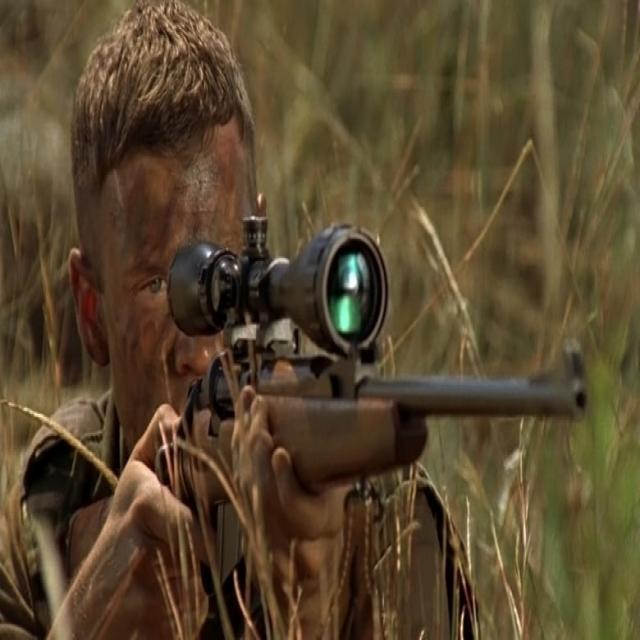rifle: (34, 204, 602, 628)
